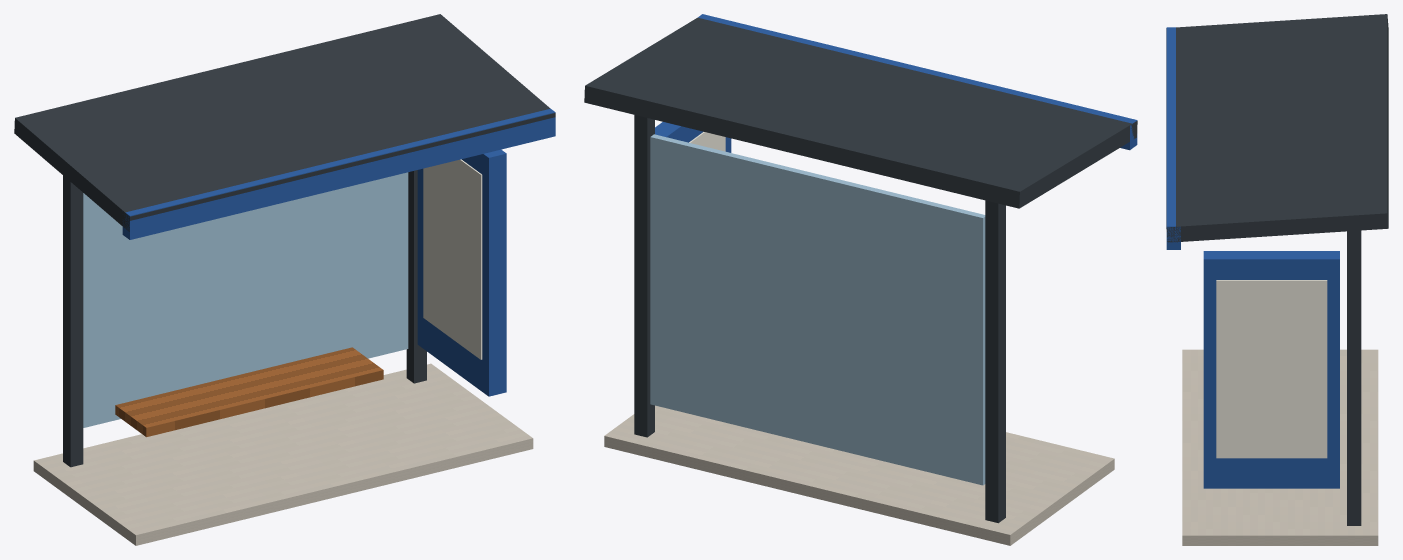
The model's file is bus-shelter-lod1.glb.
3 renders of one model, left to right at view 1: azimuth 30°, elevation 25°; view 2: azimuth 150°, elevation 25°; view 3: azimuth 270°, elevation 25°, orthographic. The views are drawn at different scales.
Visible parts, largest first — view 1: bus-shelter-lod1; view 2: bus-shelter-lod1; view 3: bus-shelter-lod1.
Part boxes in pixels (x1,y1,x2,y2): bus-shelter-lod1: (14, 14, 555, 545); bus-shelter-lod1: (584, 14, 1137, 545); bus-shelter-lod1: (1166, 14, 1388, 545).
Size of the model in its own units: 3.32 by 2.63 by 1.56.
Materials: 1 (1 with a texture image).
